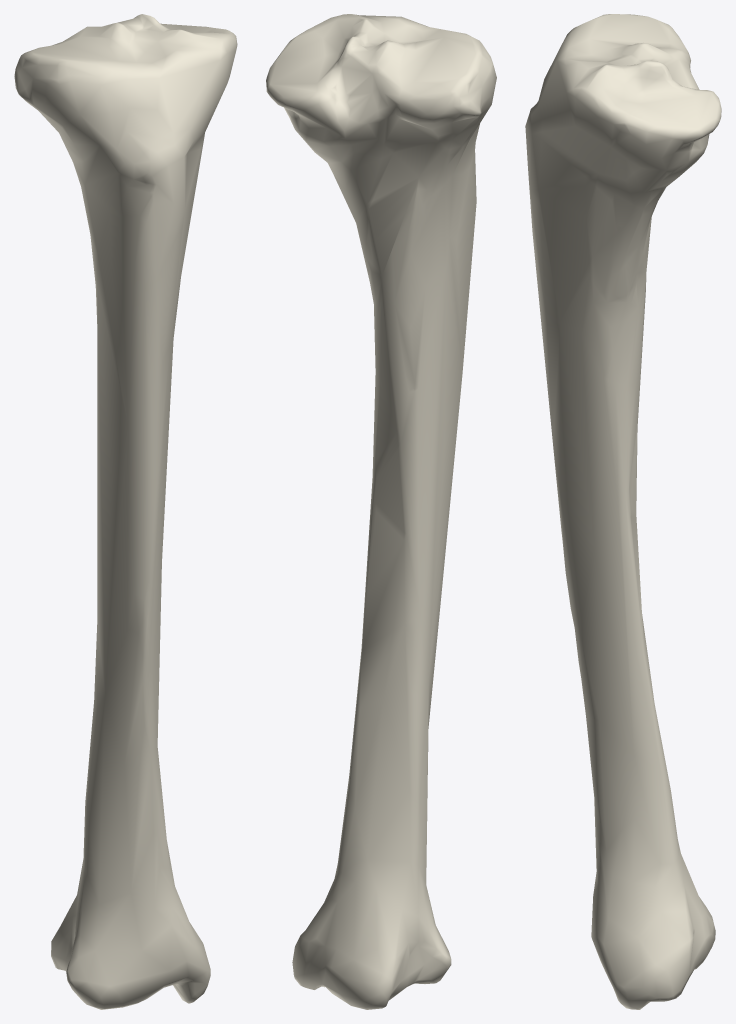
3 views of the same model, side by side, from view 1: azimuth 30°, elevation 25°; view 2: azimuth 150°, elevation 25°; view 3: azimuth 270°, elevation 25° (orthographic). The views are drawn at different scales.
Parts seen in each view (by area): view 1: ZA_adbd394e788929f0; view 2: ZA_adbd394e788929f0; view 3: ZA_adbd394e788929f0.
Boxes of the visible parts, x1,y1,x2,y2 form: ZA_adbd394e788929f0: (14,14,237,1009); ZA_adbd394e788929f0: (266,14,496,1009); ZA_adbd394e788929f0: (525,14,721,1009).
Bounding box in the file's own units: 0.0784 × 0.358 × 0.068.
